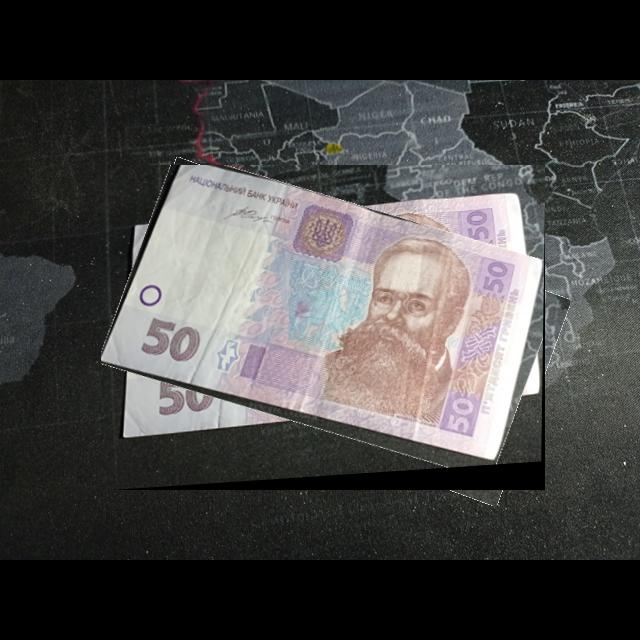50uah: (101, 165, 545, 470)
